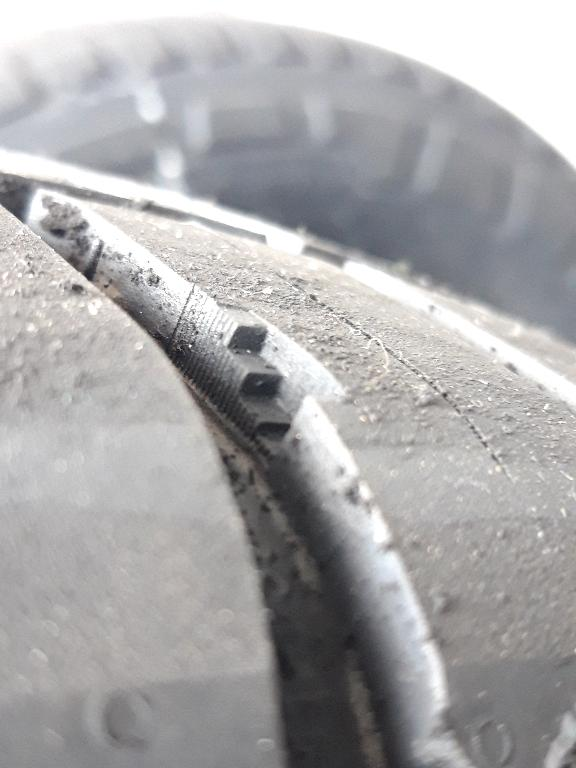temoin:75: (179, 297, 359, 479)
